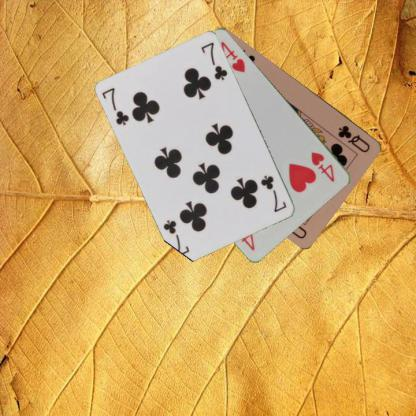4h: (309, 149, 336, 183)
7c: (100, 85, 132, 127), (258, 173, 288, 214)
Qc: (336, 122, 372, 154)
